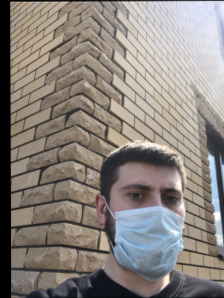with_mask: (107, 174, 185, 282)
